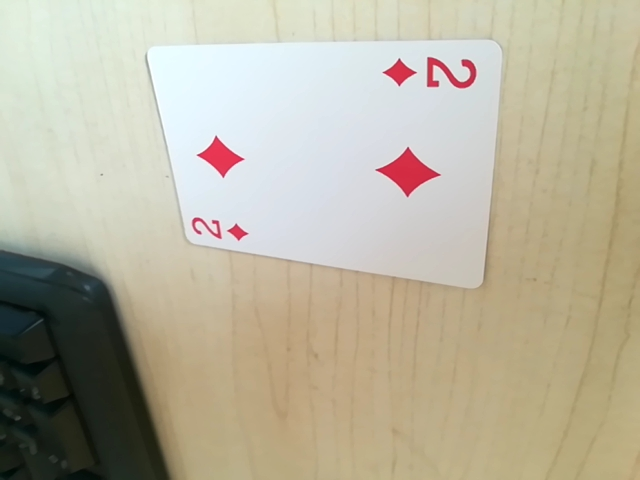fk 2: (379, 52, 481, 98), (187, 209, 257, 248)
